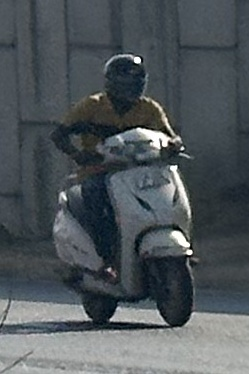BikeWithRider: (42, 46, 206, 331)
Helmet: (95, 48, 154, 111)
